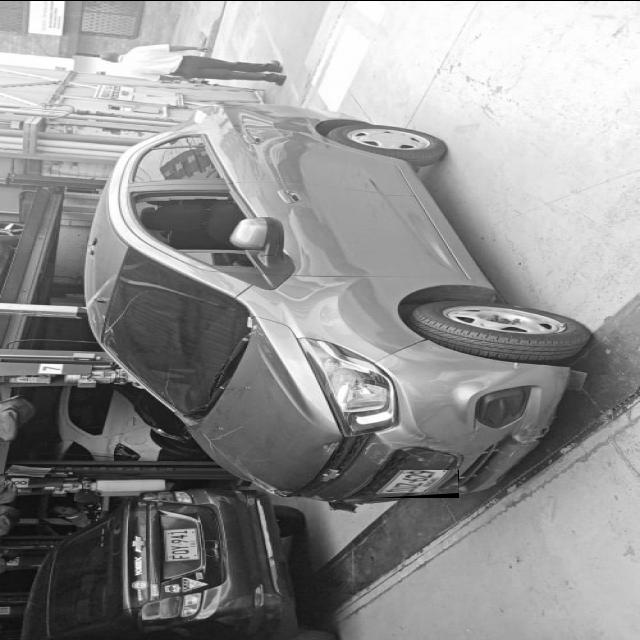plate: (374, 469, 454, 494)
